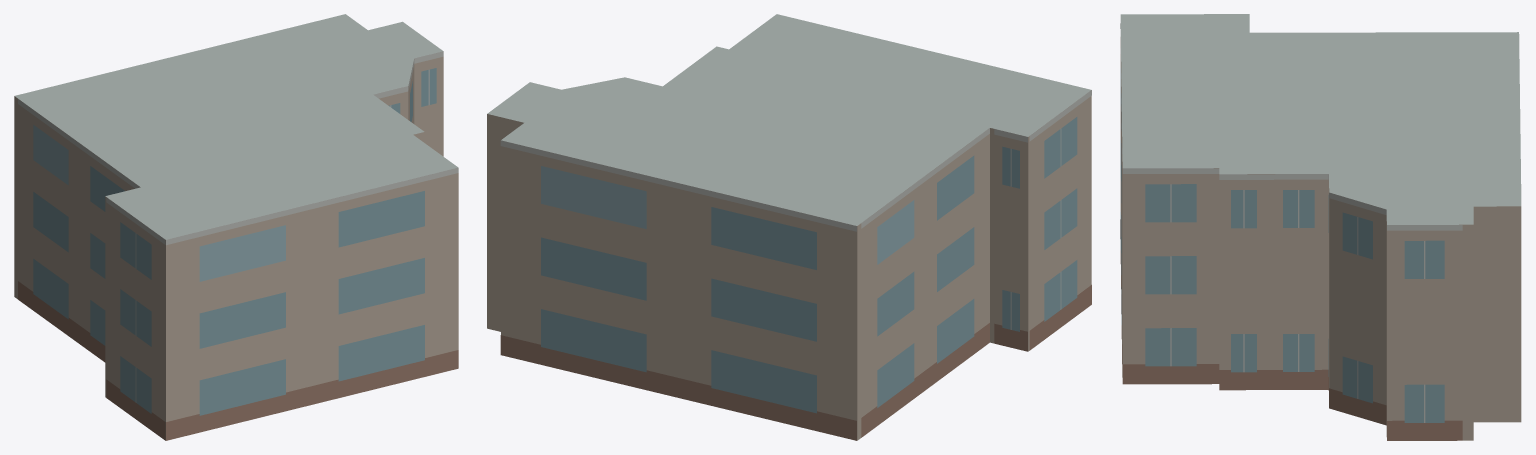
Rendered from survey-upis-32758151.glb.
The picture shows the model from 3 angles, left to right: view 1: azimuth 30°, elevation 25°; view 2: azimuth 150°, elevation 25°; view 3: azimuth 270°, elevation 25°; orthographic projection. The views are drawn at different scales.
Visible parts, largest first — view 1: survey-upis-32758151.tmp; view 2: survey-upis-32758151.tmp; view 3: survey-upis-32758151.tmp.
Part boxes in pixels (<box>): survey-upis-32758151.tmp: <box>14,14,458,440</box>; survey-upis-32758151.tmp: <box>487,14,1091,440</box>; survey-upis-32758151.tmp: <box>1120,14,1521,440</box>.
Bounding box in the file's own units: 19.18 × 9.15 × 15.41.
